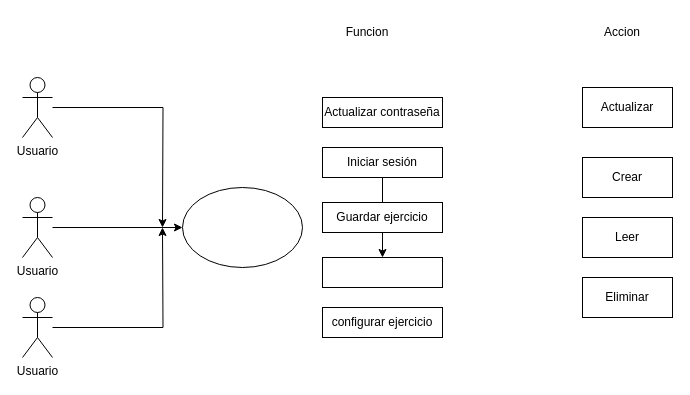
This 690x395 diagram has some shape labels left out. The shapes that lost their labels are listed below. From the top down, each one's centre as x and y in pixels, then its label:
(x=242, y=227): Rol (Docente, Discente, Administrador y Supervisor).
(x=382, y=272): Habilitar usuarios
